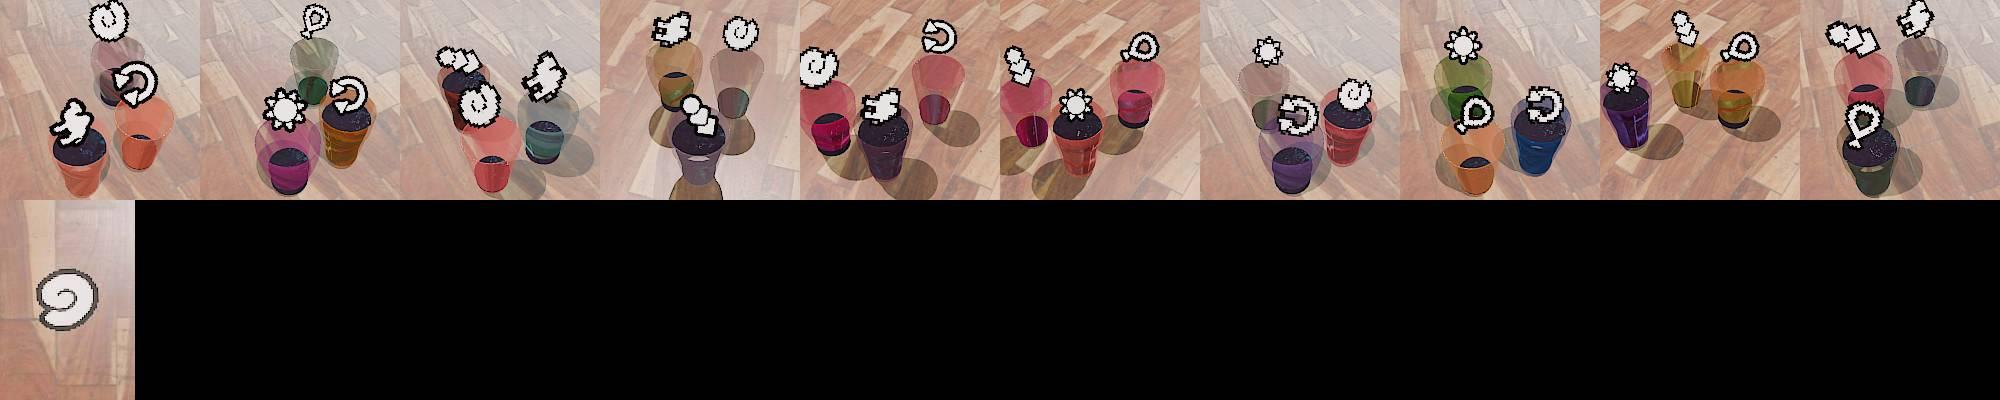icon: (34, 267, 100, 332), (521, 50, 568, 103), (50, 96, 95, 147), (262, 85, 309, 133), (457, 80, 503, 128), (1824, 20, 1881, 58), (1275, 92, 1319, 136), (678, 92, 721, 137), (1453, 89, 1495, 134), (798, 45, 840, 89), (327, 74, 369, 118), (116, 62, 157, 107), (1844, 99, 1883, 146), (88, 0, 129, 44), (860, 86, 902, 125), (1523, 84, 1565, 123), (651, 10, 692, 48), (1443, 25, 1482, 63), (721, 15, 760, 53), (1896, 1, 1934, 40), (435, 44, 480, 75), (1119, 30, 1160, 64), (1003, 45, 1036, 87), (920, 18, 957, 55), (1719, 30, 1760, 63), (1335, 75, 1372, 111), (1058, 87, 1096, 121), (299, 3, 332, 39), (1604, 61, 1638, 93), (1670, 9, 1699, 46), (1251, 35, 1284, 67)
